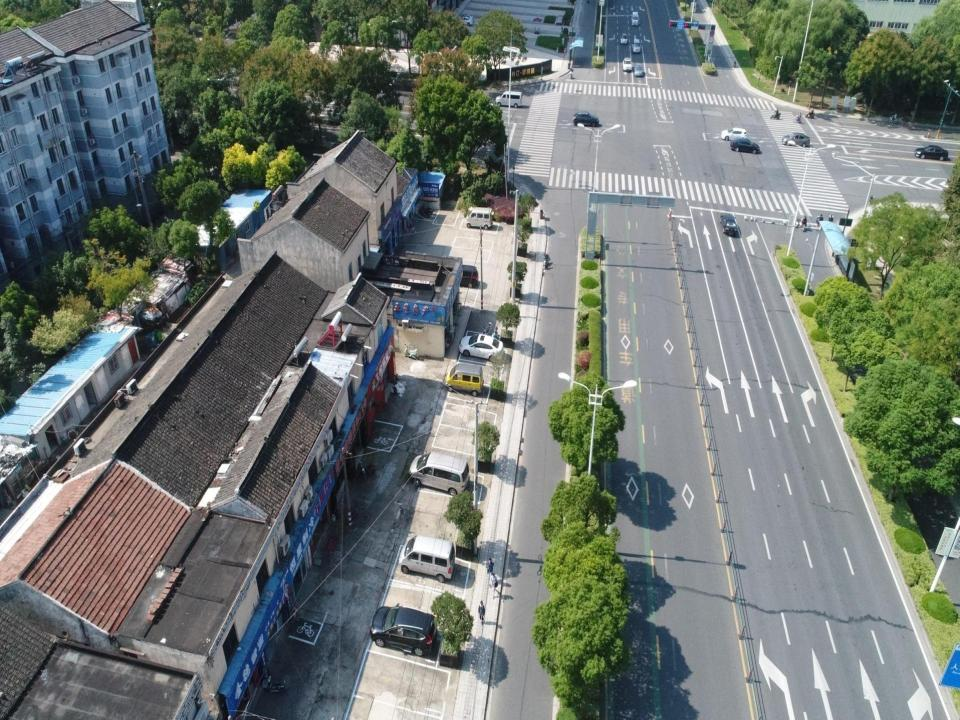car: (369, 604, 437, 658), (458, 333, 505, 361), (452, 264, 478, 290), (914, 146, 950, 163), (495, 90, 521, 109), (730, 138, 760, 154), (721, 210, 739, 236), (781, 132, 811, 147), (573, 111, 601, 125), (720, 128, 747, 142), (623, 54, 632, 74), (632, 37, 640, 55), (458, 17, 472, 26), (634, 62, 642, 76), (461, 14, 473, 22), (620, 32, 627, 44)
truck: (632, 10, 638, 26)
van: (400, 536, 456, 580), (409, 453, 470, 492), (442, 364, 486, 395), (464, 206, 493, 230)
